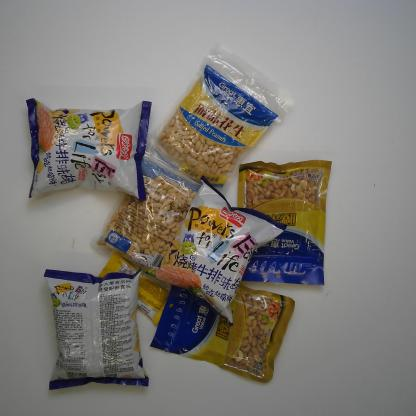Chocolate: (97, 250, 172, 326)
Dried Fruit: (148, 42, 300, 196), (92, 138, 232, 278), (150, 281, 295, 386), (234, 155, 334, 289)
Puffed Food: (145, 174, 289, 330), (23, 95, 155, 207), (37, 265, 150, 392)
